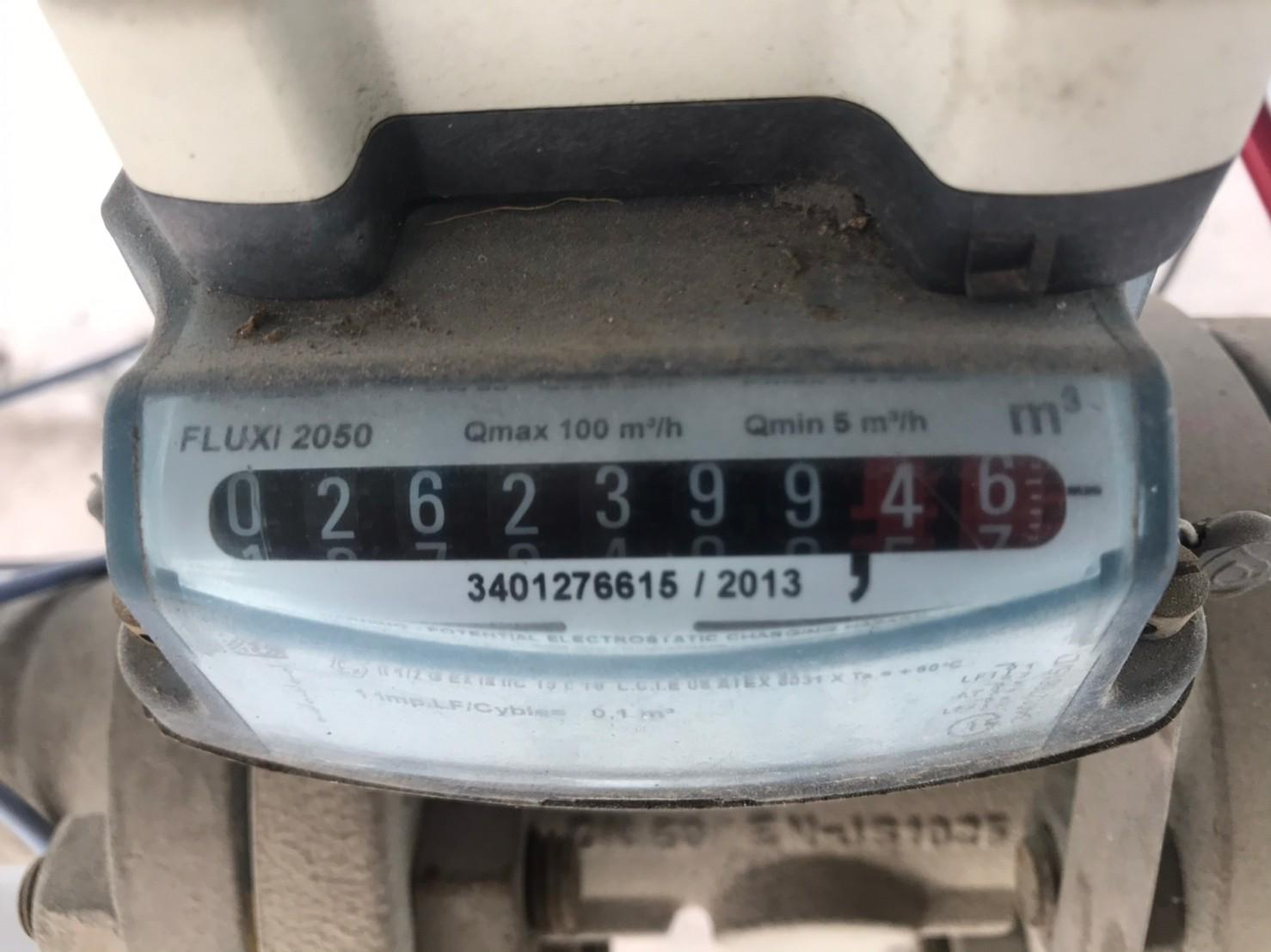analog_dial: (202, 443, 1108, 583)
